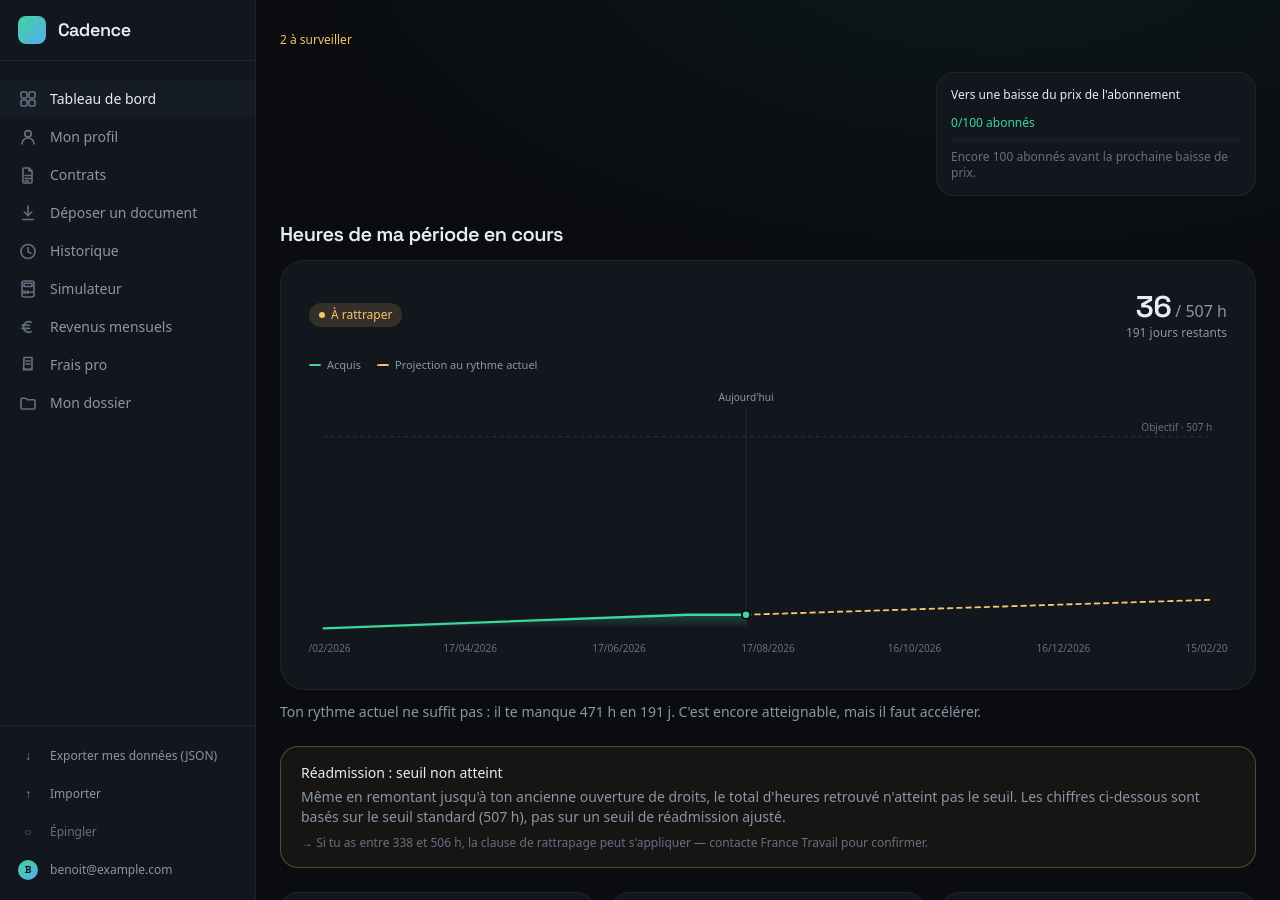
Test case: App — une fois connecté, l'app entière redevient accessible › s'ouvre et affiche les données locales
Click the button "Contrats" at (128, 175), box [0, 157, 255, 193]
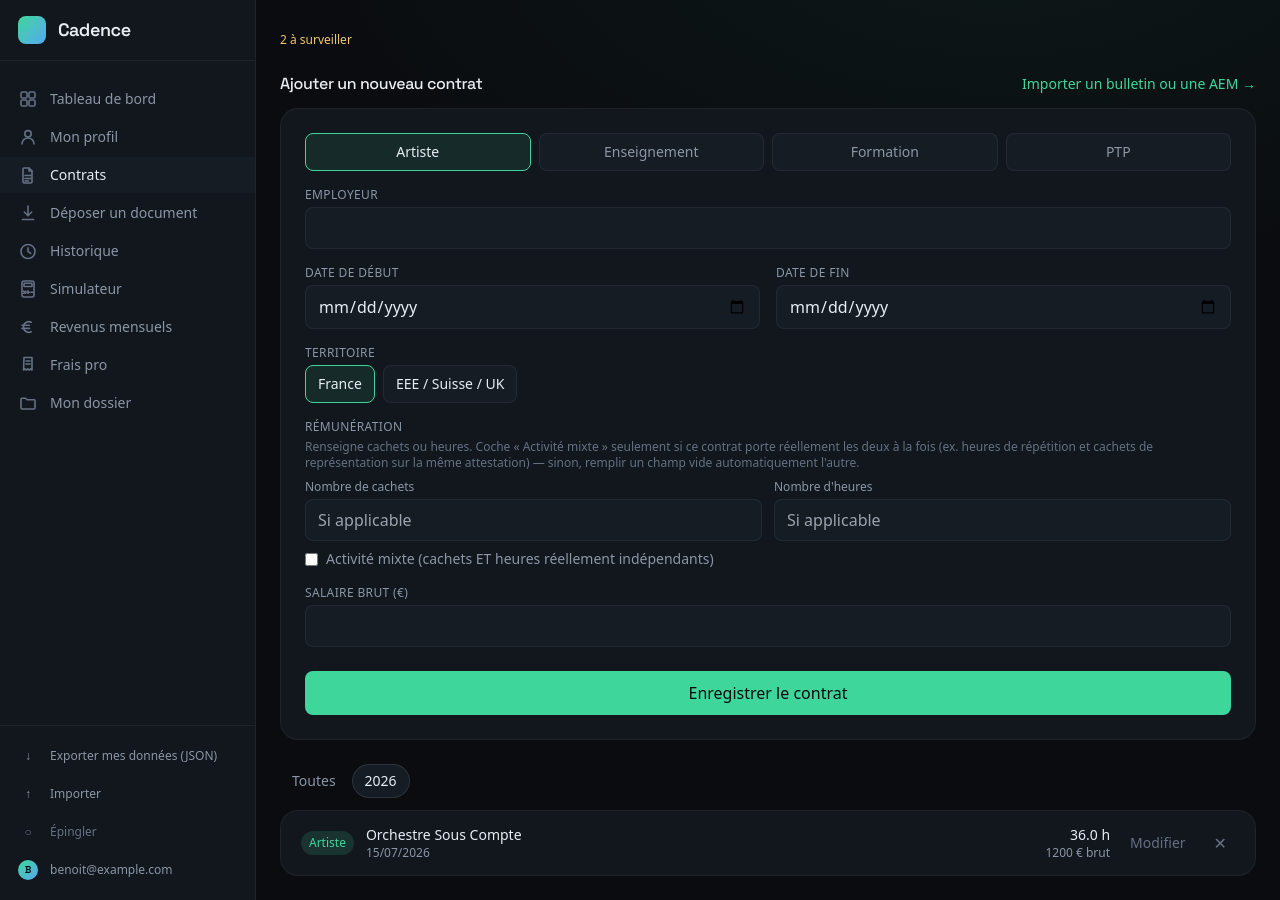
Result: the text "Orchestre Sous Compte" is shown at [366, 825, 522, 844]
